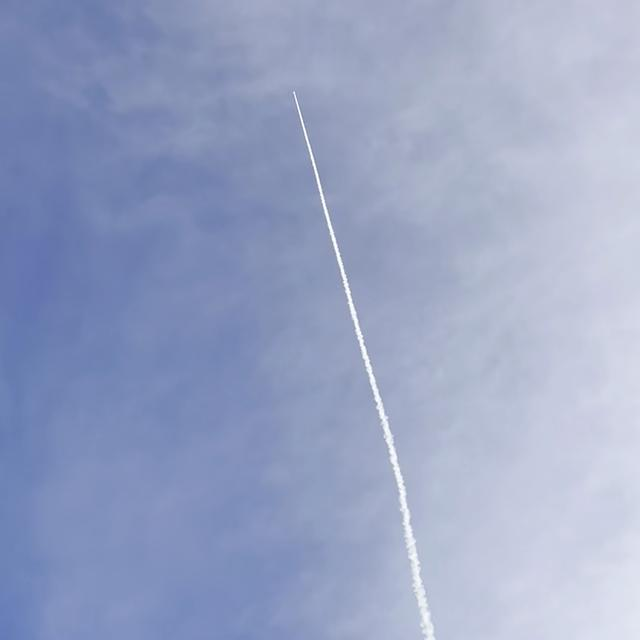smoke_trail_no_rocket: (293, 91, 434, 640)
